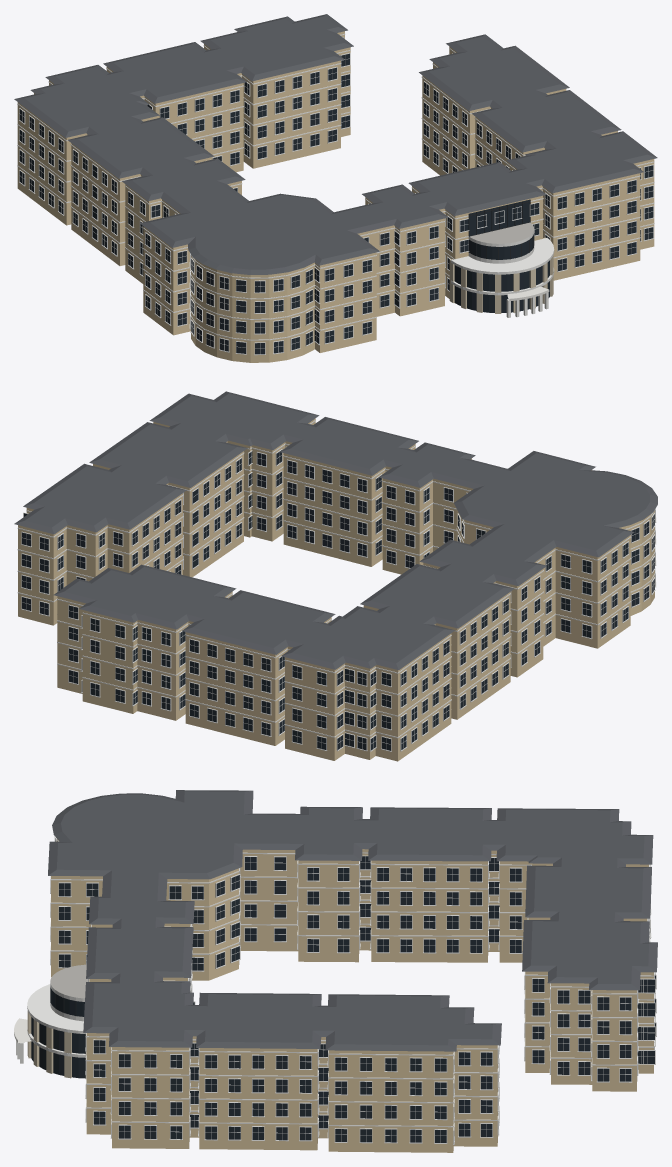
The model's file is helix_hall.glb.
3 renders of one model, top to bottom at view 1: azimuth 30°, elevation 25°; view 2: azimuth 150°, elevation 25°; view 3: azimuth 270°, elevation 25°, orthographic. The views are drawn at different scales.
Visible parts, largest first — view 1: helix_hall_Roof_Shingle, helix_hall_Wall_beigeStucco, helix_hall_Trim_White, helix_hall_Glass_dark, helix_hall_Wall_limestone, helix_hall_Roof_Membrane; view 2: helix_hall_Roof_Shingle, helix_hall_Wall_beigeStucco, helix_hall_Trim_White, helix_hall_Glass_dark; view 3: helix_hall_Roof_Shingle, helix_hall_Wall_beigeStucco, helix_hall_Glass_dark, helix_hall_Trim_White, helix_hall_Wall_limestone, helix_hall_Roof_Membrane.
Part boxes in pixels (x1=…): helix_hall_Roof_Shingle: x1=14, y1=14, x2=657, y2=274; helix_hall_Wall_beigeStucco: x1=17, y1=31, x2=654, y2=362; helix_hall_Trim_White: x1=17, y1=33, x2=654, y2=355; helix_hall_Glass_dark: x1=19, y1=37, x2=653, y2=354; helix_hall_Wall_limestone: x1=449, y1=237, x2=553, y2=313; helix_hall_Roof_Membrane: x1=470, y1=222, x2=534, y2=243; helix_hall_Roof_Shingle: x1=14, y1=391, x2=657, y2=670; helix_hall_Wall_beigeStucco: x1=18, y1=418, x2=654, y2=761; helix_hall_Trim_White: x1=17, y1=420, x2=656, y2=751; helix_hall_Glass_dark: x1=22, y1=450, x2=654, y2=750; helix_hall_Roof_Shingle: x1=48, y1=790, x2=657, y2=1051; helix_hall_Wall_beigeStucco: x1=51, y1=839, x2=653, y2=1152; helix_hall_Glass_dark: x1=31, y1=838, x2=655, y2=1142; helix_hall_Trim_White: x1=16, y1=836, x2=656, y2=1144; helix_hall_Wall_limestone: x1=27, y1=1011, x2=86, y2=1078; helix_hall_Roof_Membrane: x1=50, y1=964, x2=88, y2=998.
Size of the model in its own units: 96.23 by 18.03 by 100.
